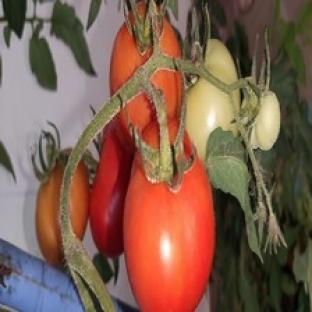Tomato: (124, 152, 214, 311), (90, 127, 133, 257), (187, 78, 239, 160), (35, 161, 65, 266), (109, 24, 153, 94), (251, 91, 279, 150)
